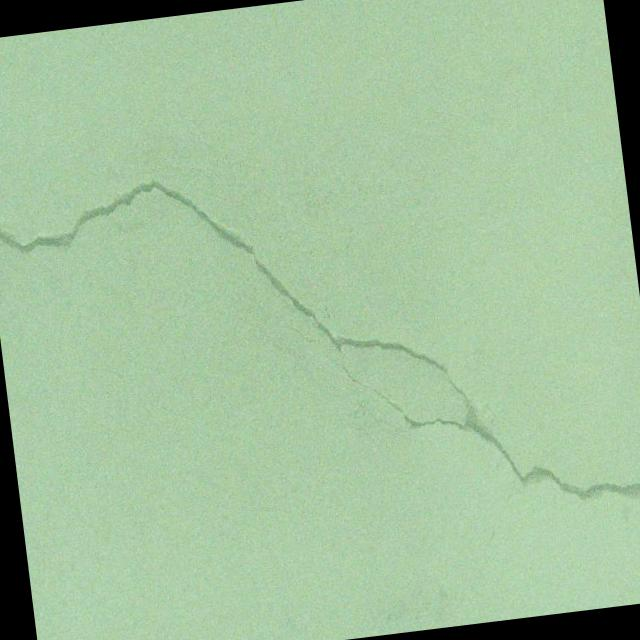crack: (0, 109, 640, 612)
